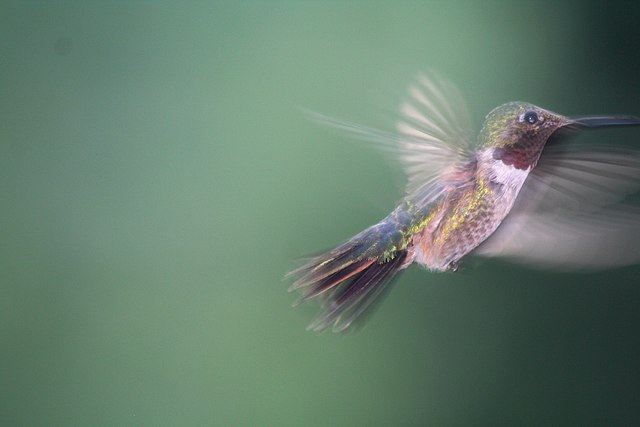selasphorus platycercus: (282, 95, 639, 332)
